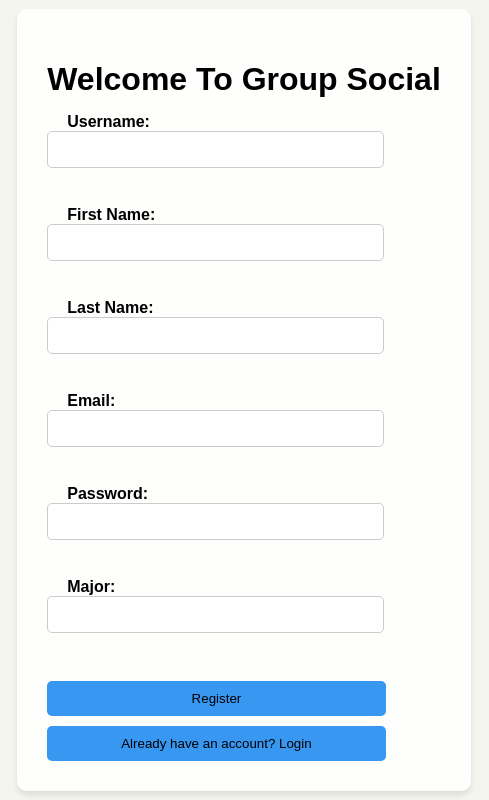
Test case: Register Component › displays an error message when registration fails
The image size is (489, 800).
Type "newuser" into the field labelled "Username:" at (216, 149), box left=47, top=131, right=384, bottom=168
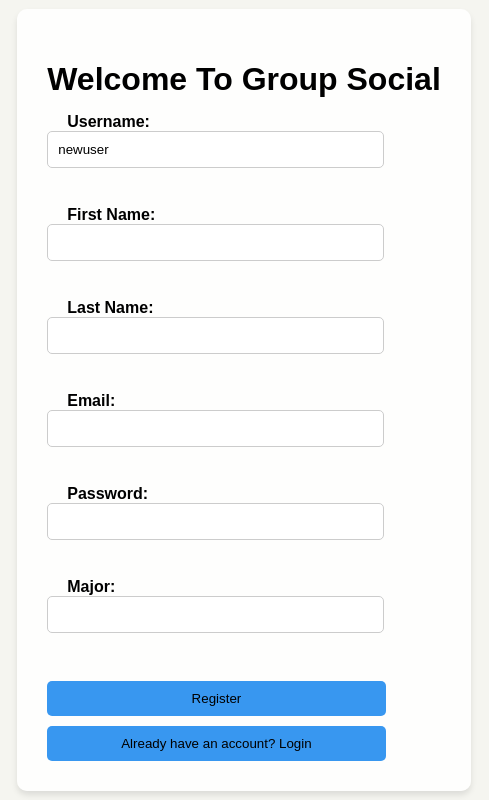
Type "newpassword" into the password field labelled "Password:" at (216, 521), box left=47, top=503, right=384, bottom=540
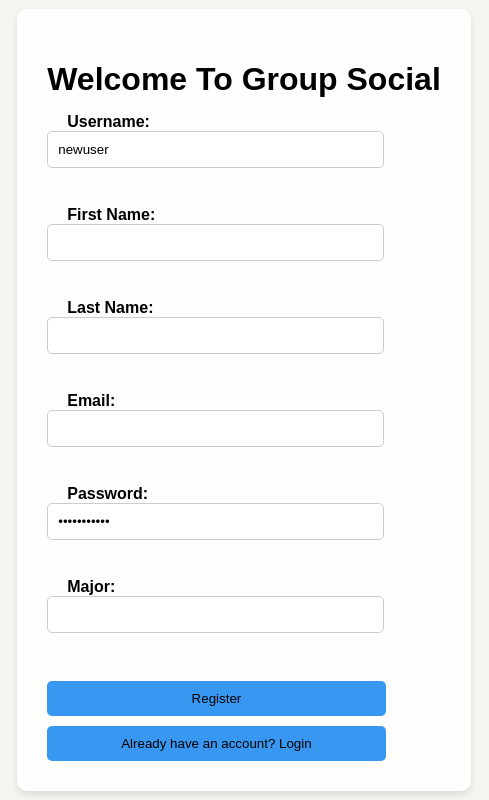
Type "new@example.com" into the field labelled "Email:" at (216, 428), box left=47, top=410, right=384, bottom=447
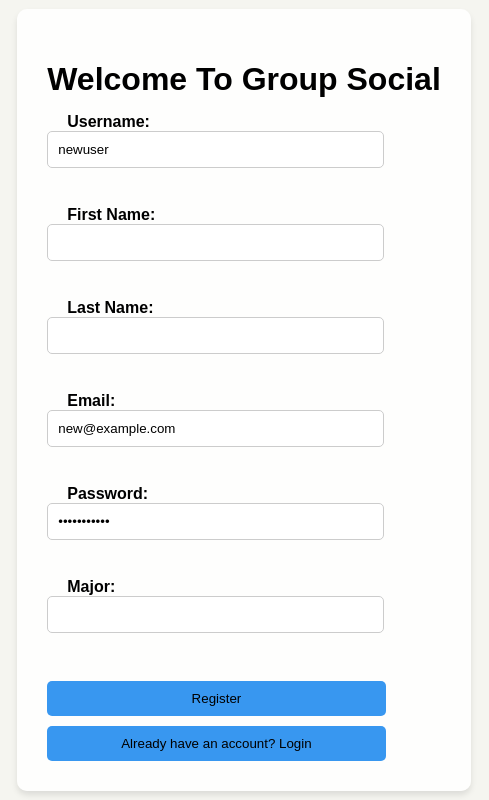
Type "Jane" into the field labelled "First Name:" at (216, 242), box left=47, top=224, right=384, bottom=261
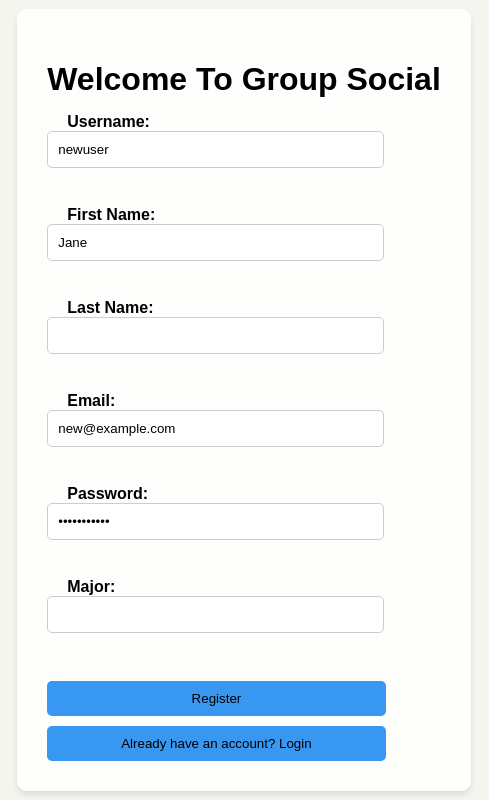
Type "Doe" into the field labelled "Last Name:" at (216, 335), box left=47, top=317, right=384, bottom=354
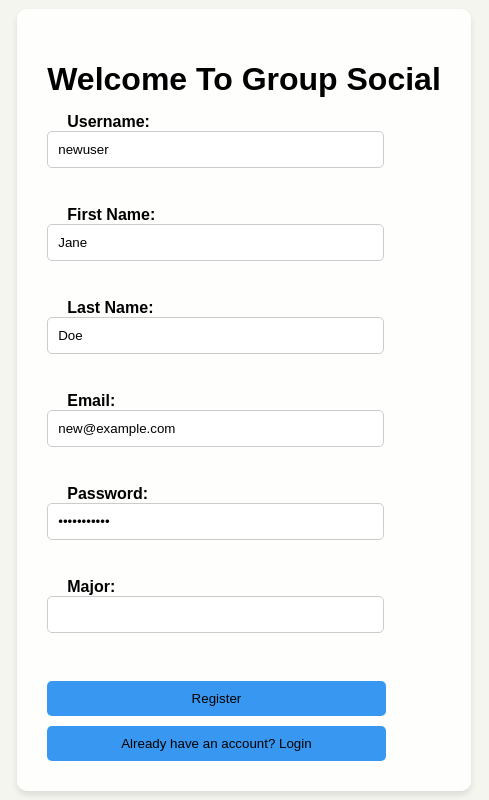
Click the button "Register" at (216, 698), box left=47, top=681, right=386, bottom=716
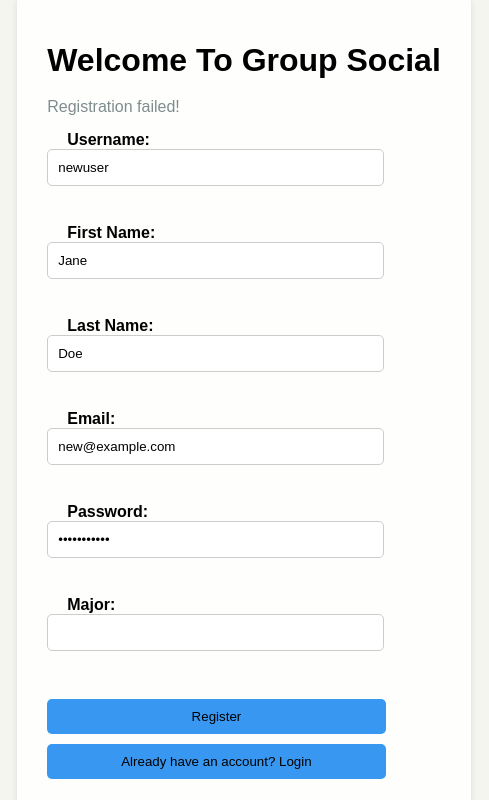
Check: the text "Registration failed!" is shown, box left=47, top=98, right=180, bottom=115
